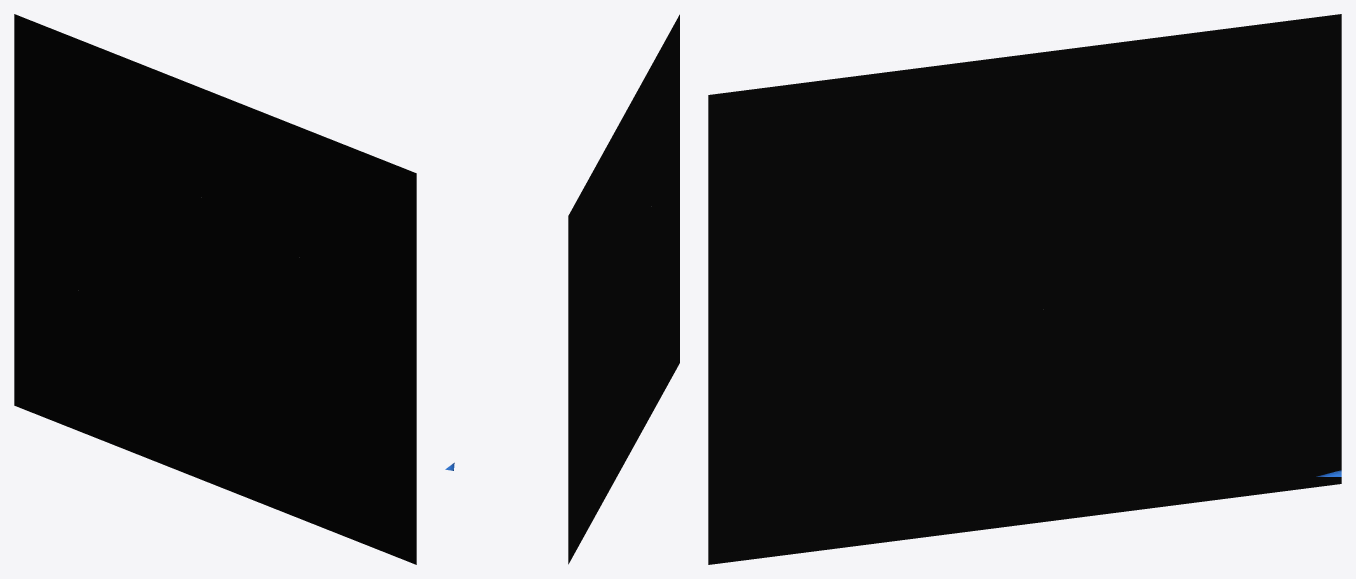
3 renders of one model, left to right at view 1: azimuth 30°, elevation 25°; view 2: azimuth 150°, elevation 25°; view 3: azimuth 270°, elevation 25°, orthographic. The views are drawn at different scales.
Bounding box in the file's own units: 3.33 × 9 × 10.99.
2 materials, 2 textured.
